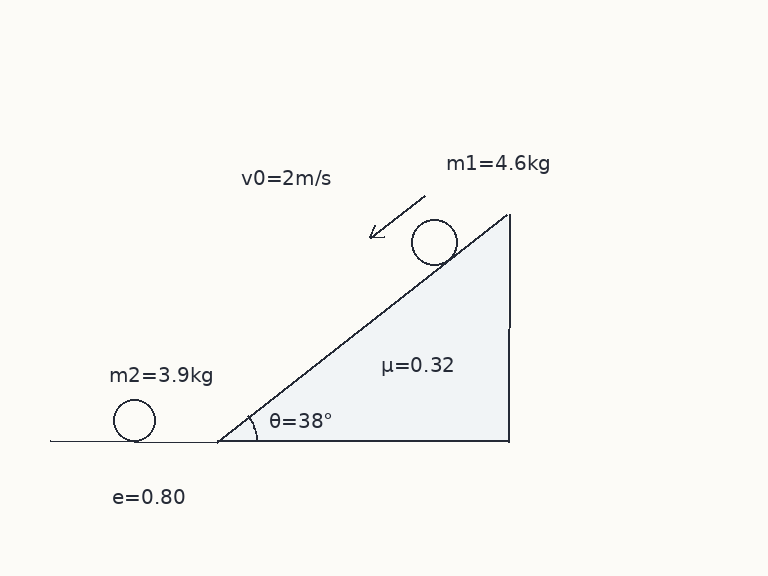ball: (409, 217, 459, 267), (111, 397, 157, 443)
ramp: (215, 212, 510, 443)
